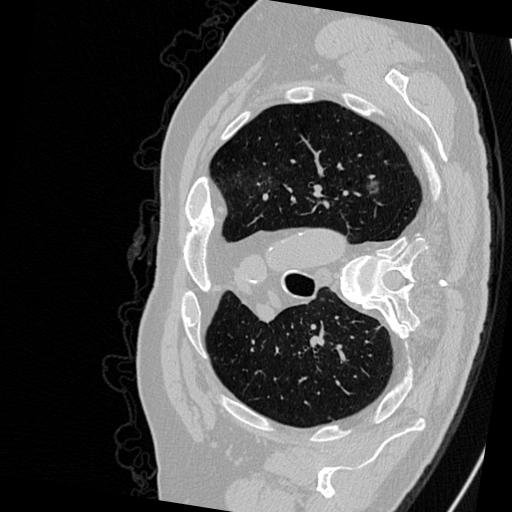nodule: (364, 179, 383, 198)
